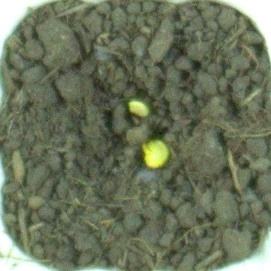chilli seed: (141, 136, 171, 171), (126, 98, 152, 120)
